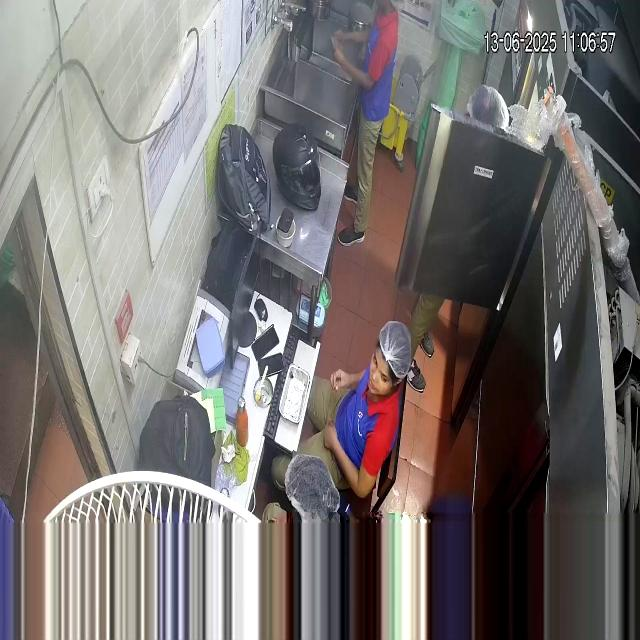no_helmet: (369, 322, 411, 394)
